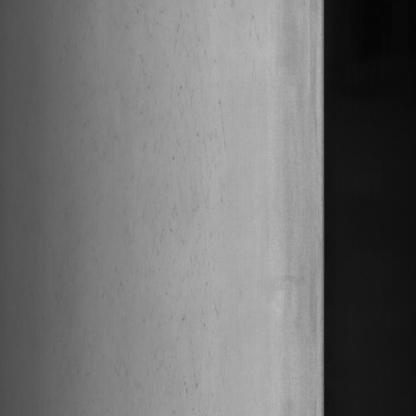silk_spot: (141, 26, 240, 294)
